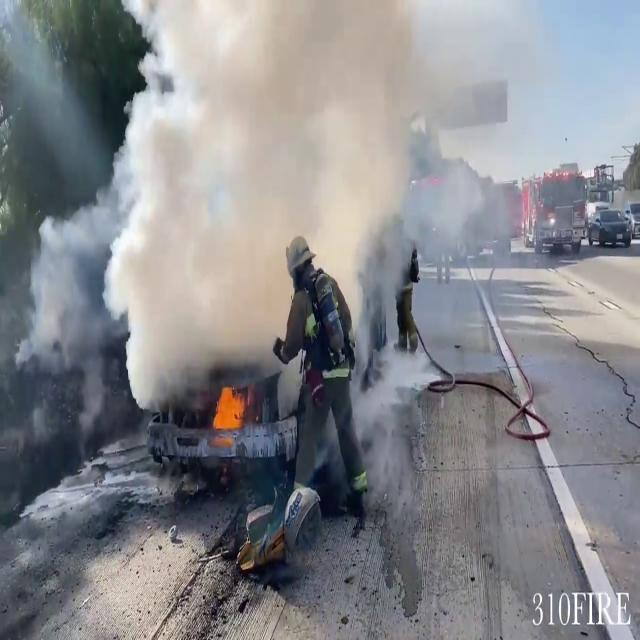Fire: (208, 372, 252, 440)
Smoke: (29, 0, 530, 380)
